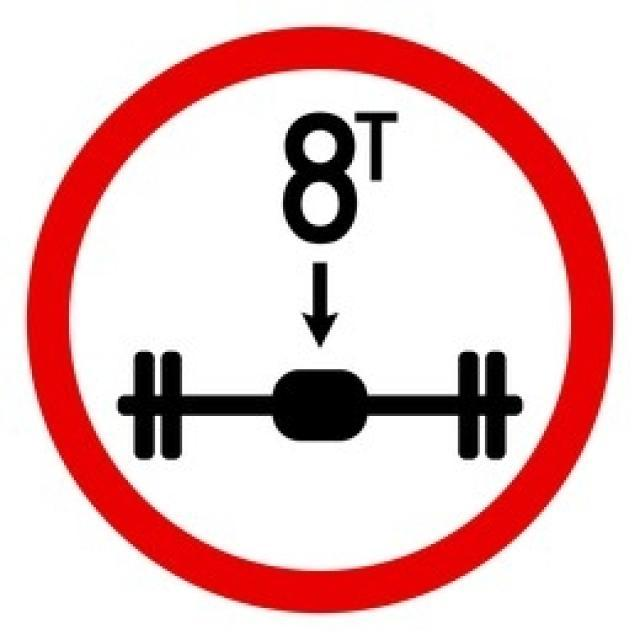axle load limit: (18, 17, 624, 623)
